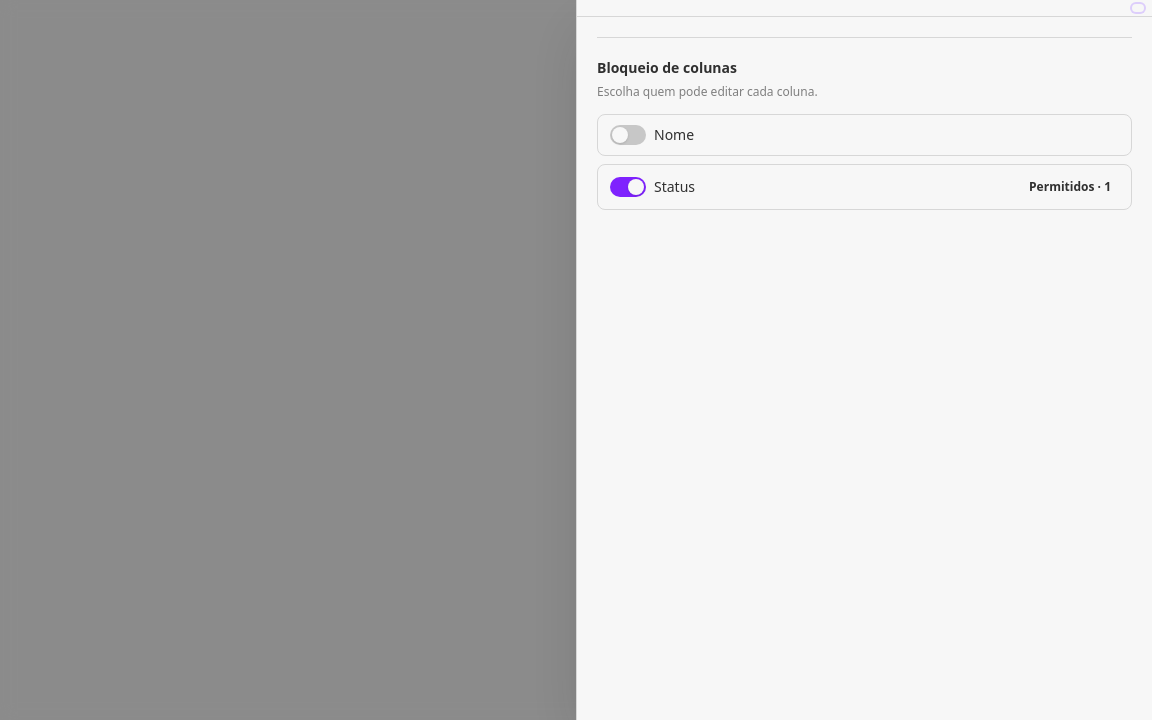
Test: ColumnLockSettings › permite focar e pesquisar dentro da drawer, sem fechar a configuração
Click the button "Permitidos · 1": (1070, 187) [1021,175,1119,199]
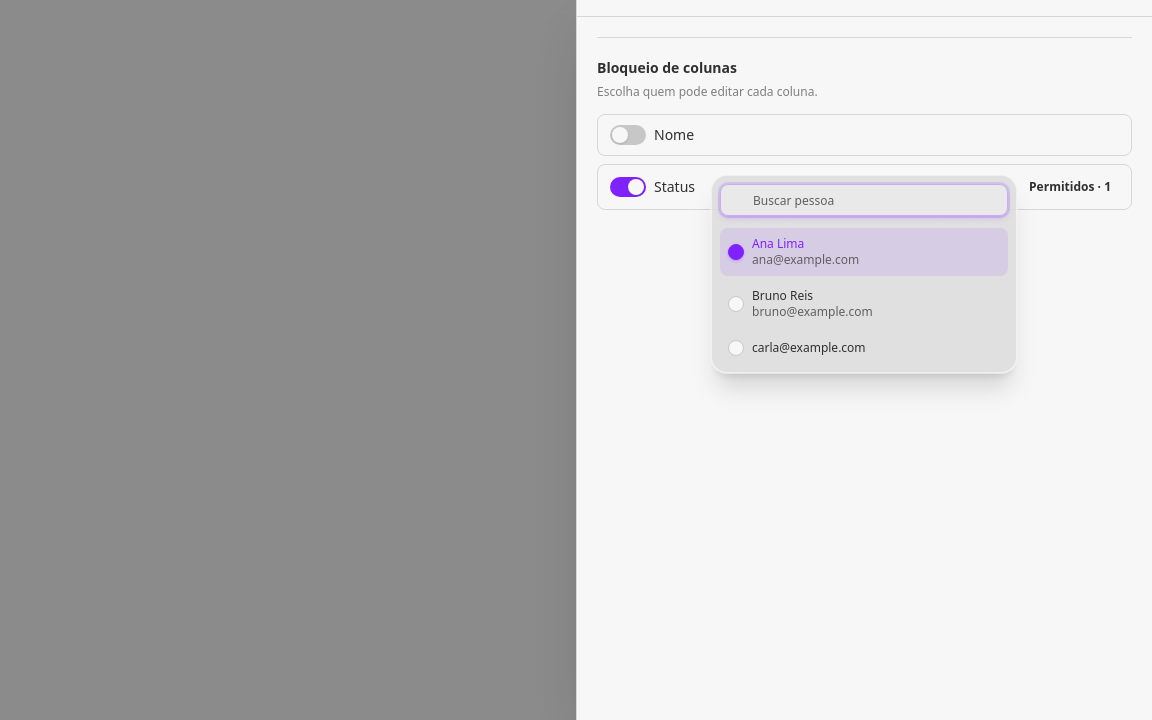
In the search field labelled "Buscar pessoa": (864, 200) [720,184,1008,216], type "bruno@"
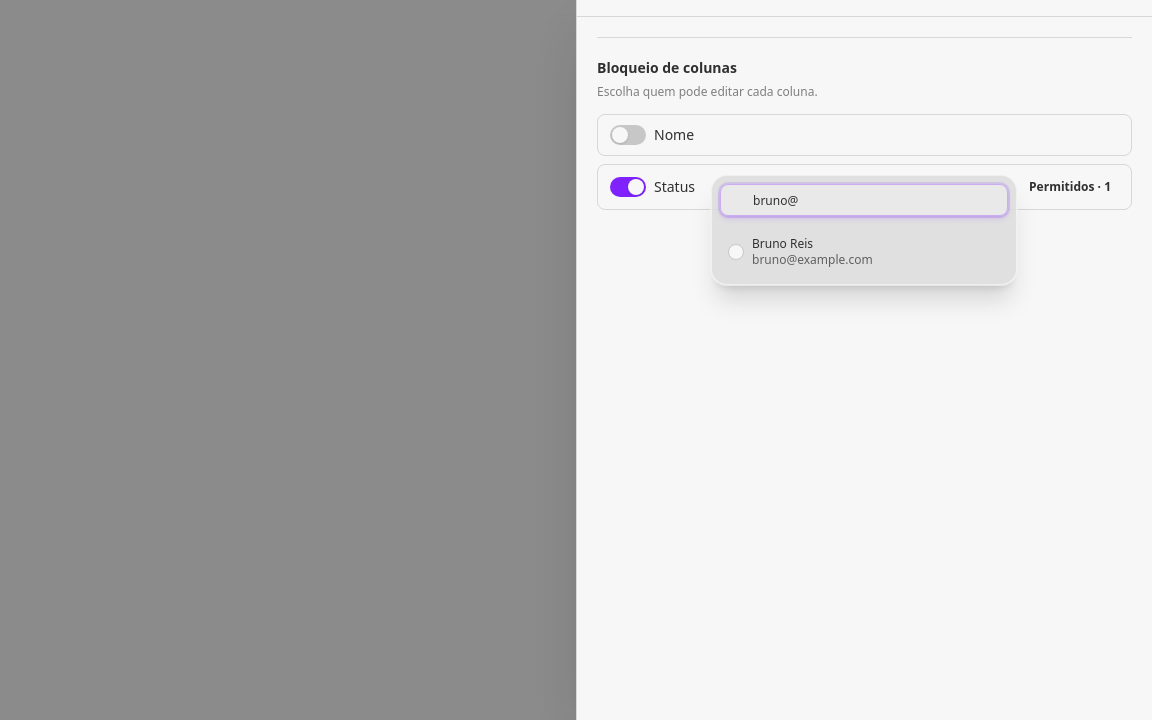
Expected: the dialog named "Configurações da view" is shown, [576,0,1151,719]
Result: the checkbox named "Permitidos: Bruno Reis" is shown at [728,244,744,260]
Result: the text "Ana Lima" is gone
